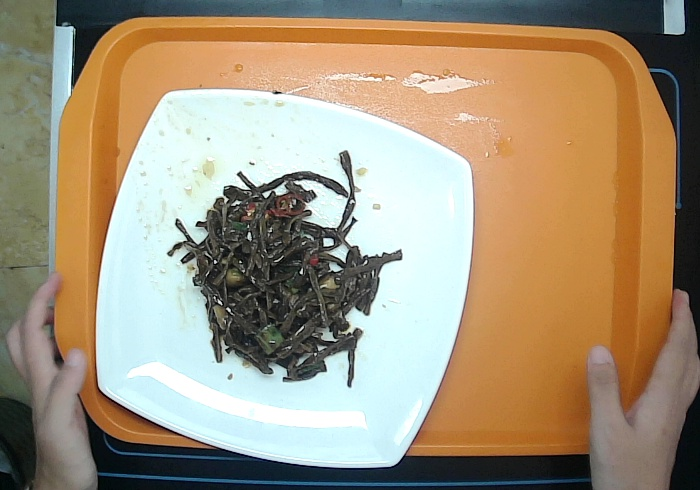ZNLD-Bai_Fang_Pan: (92, 85, 476, 470)
